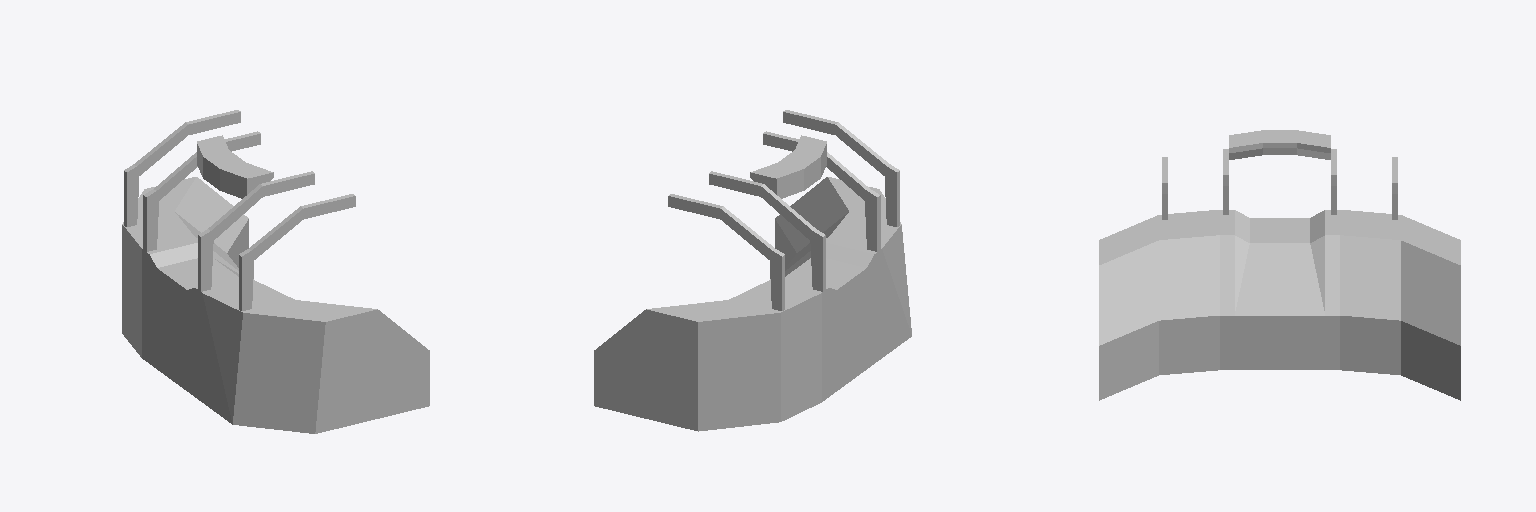
The model's file is Cockpit.obj.
The picture shows the model from 3 angles: view 1: azimuth 30°, elevation 25°; view 2: azimuth 150°, elevation 25°; view 3: azimuth 270°, elevation 25°; orthographic projection.
Parts seen in each view (by area): view 1: Cube.005; view 2: Cube.005; view 3: Cube.005.
Part boxes in pixels (x1,y1,x2,y2): Cube.005: (122, 110, 429, 433); Cube.005: (594, 110, 911, 431); Cube.005: (1099, 130, 1460, 400).
Bounding box in the file's own units: 0.8 × 0.95 × 1.5.